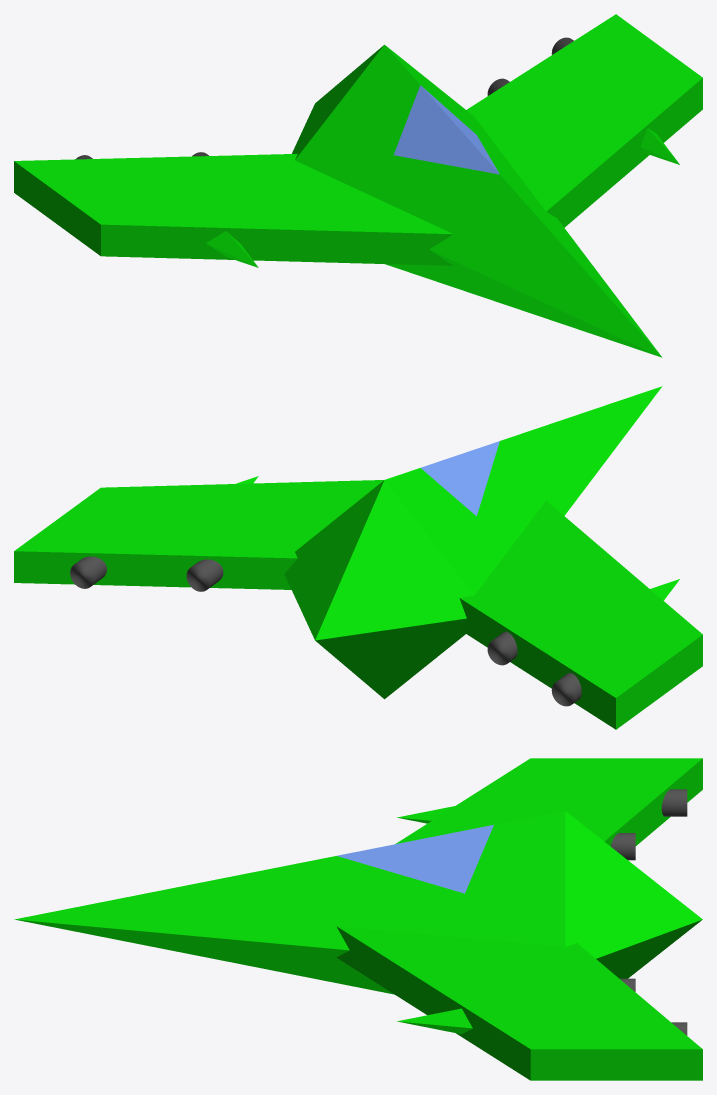
The model's file is Player_Ship_003.fbx.
3 views of the same model, one above another, from view 1: azimuth 30°, elevation 25°; view 2: azimuth 150°, elevation 25°; view 3: azimuth 270°, elevation 25° (orthographic).
Parts seen in each view (by area): view 1: wings, body, guns; view 2: wings, body, thrust_001, thrust; view 3: body, wings, guns, thrust_001, thrust.
Boxes of the visible parts, bbox=[...] form: wings: bbox=[14, 14, 702, 265]; body: bbox=[292, 44, 662, 357]; guns: bbox=[206, 128, 679, 267]; wings: bbox=[14, 480, 702, 729]; body: bbox=[284, 386, 662, 699]; thrust_001: bbox=[70, 556, 581, 706]; thrust: bbox=[186, 559, 517, 665]; body: bbox=[14, 811, 702, 994]; wings: bbox=[336, 758, 702, 1080]; guns: bbox=[397, 806, 472, 1034]; thrust_001: bbox=[661, 789, 687, 1035]; thrust: bbox=[610, 833, 635, 991].
Size of the model in its own units: 200 by 69.68 by 200.
